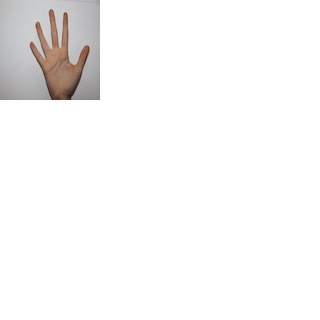paper: (23, 4, 93, 97)
